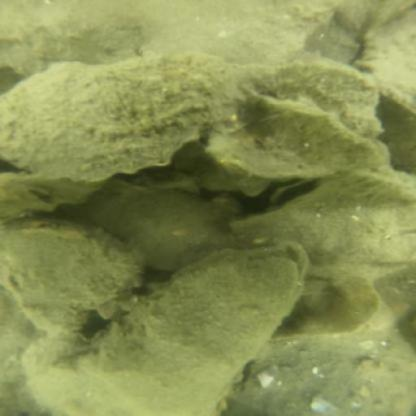Oyster- Indeterminate: (87, 242, 311, 416)
Oyster-Closed: (1, 56, 245, 181), (238, 172, 411, 280), (4, 215, 143, 334), (229, 332, 411, 413), (78, 187, 227, 269), (248, 55, 376, 133), (21, 324, 129, 416), (357, 3, 414, 111), (340, 167, 411, 202)
Oyster-Open: (267, 169, 333, 211)
